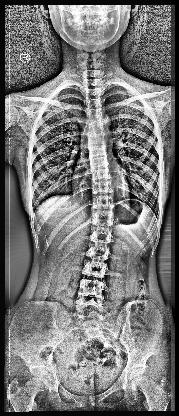Vertebrae: (83, 260, 107, 278), (78, 280, 102, 296), (76, 300, 102, 314), (92, 210, 114, 226), (91, 227, 112, 243), (89, 245, 109, 261), (92, 196, 114, 210), (92, 180, 112, 194), (87, 132, 105, 144), (92, 169, 111, 179), (88, 119, 104, 130), (87, 109, 104, 119), (89, 146, 106, 156), (91, 158, 108, 168), (86, 98, 102, 108), (86, 89, 100, 98)
